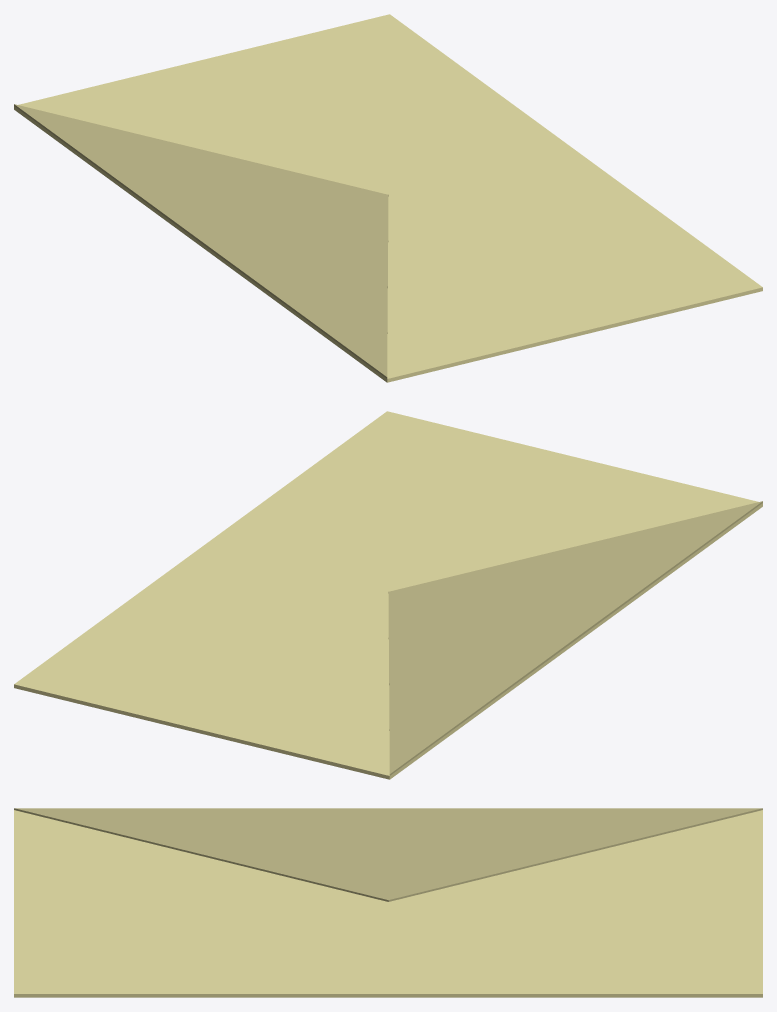
Rendered from Zarf.fbx.
3 views of the same model, one above another, from view 1: azimuth 30°, elevation 25°; view 2: azimuth 150°, elevation 25°; view 3: azimuth 270°, elevation 25° (orthographic).
Visible parts, largest first — view 1: Plane.004; view 2: Plane.004; view 3: Plane.004.
Boxes of the visible parts, x1,y1,x2,y2 form: Plane.004: (14,14,762,382); Plane.004: (14,411,762,779); Plane.004: (14,808,762,997).
Size of the model in its own units: 82.87 by 1.17 by 143.
